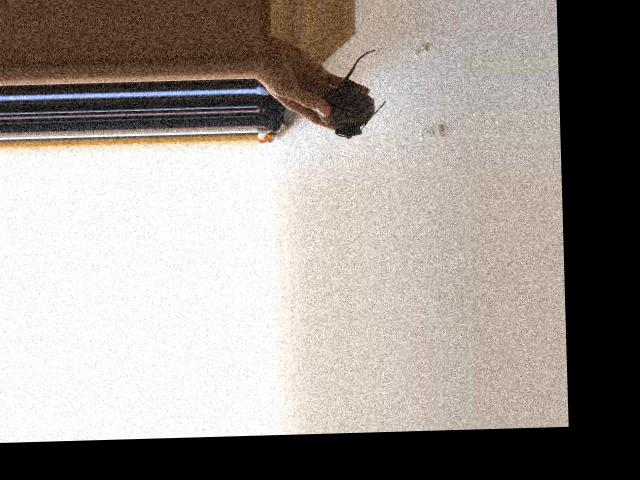beet: (316, 49, 388, 139)
